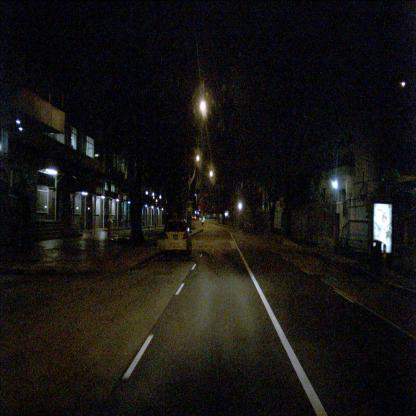vehicle-car: (163, 220, 192, 257), (192, 214, 199, 221)
